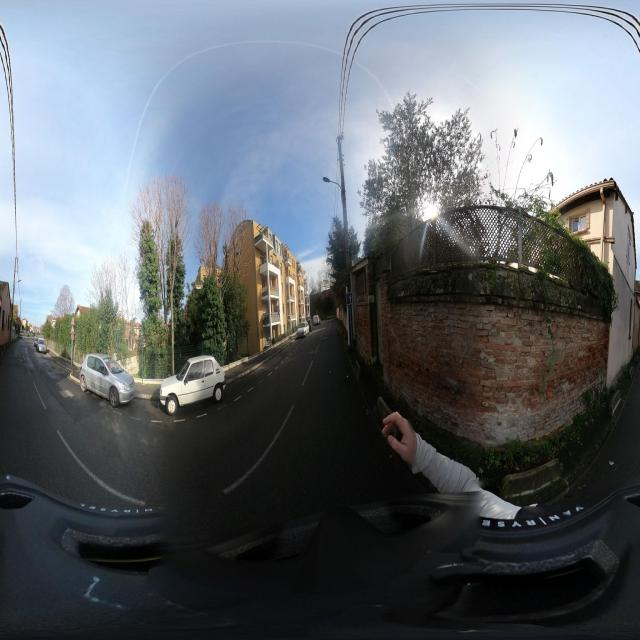car: (154, 356, 227, 416), (80, 352, 136, 409), (295, 322, 307, 340), (38, 338, 46, 353), (305, 318, 313, 332)
